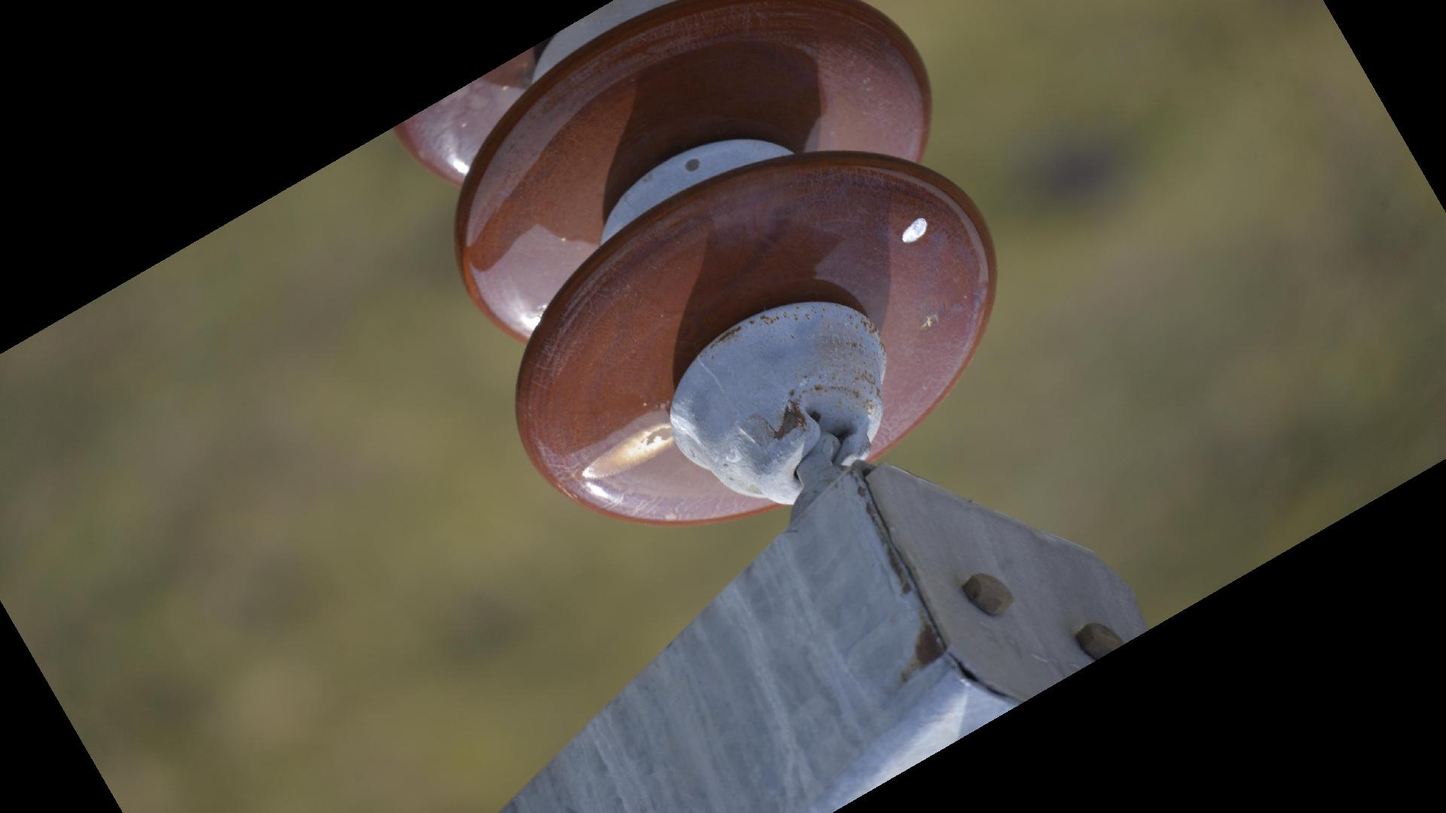insulator: (386, 1, 1002, 536)
insulator_flashover: (577, 419, 675, 483)
